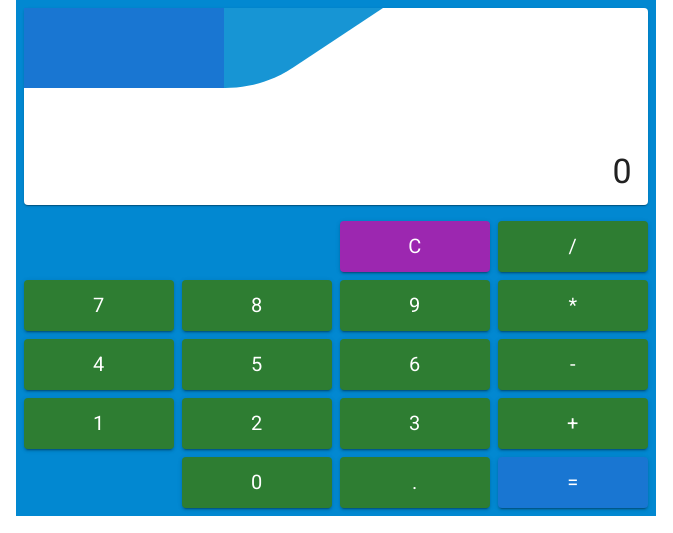
Test: <Calculator /> › displays '12' when user pressed '1' '2' buttons
The image size is (673, 533).
Click the button "1" at coordinates (99, 424), box [24,398,174,449]
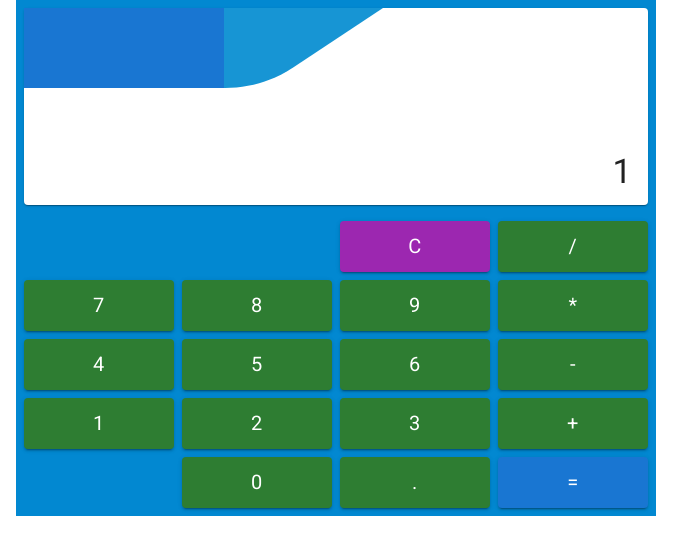
Click the button "2" at coordinates (257, 424), box [182,398,332,449]
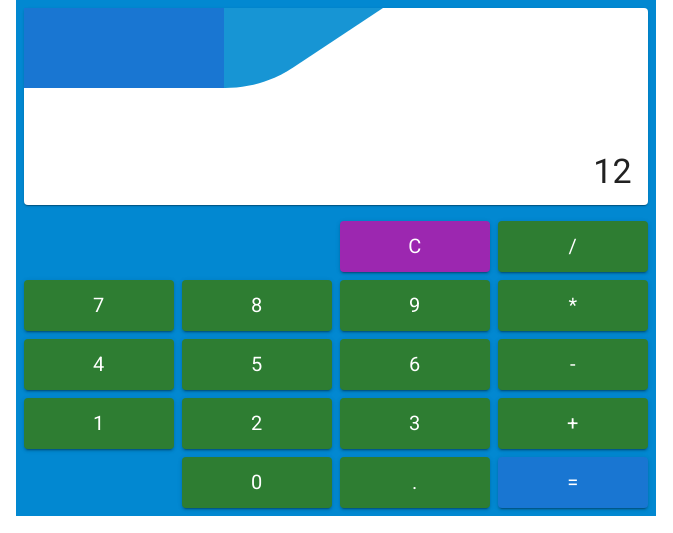
Expected: the text "12" is shown, [593,151,632,191]
